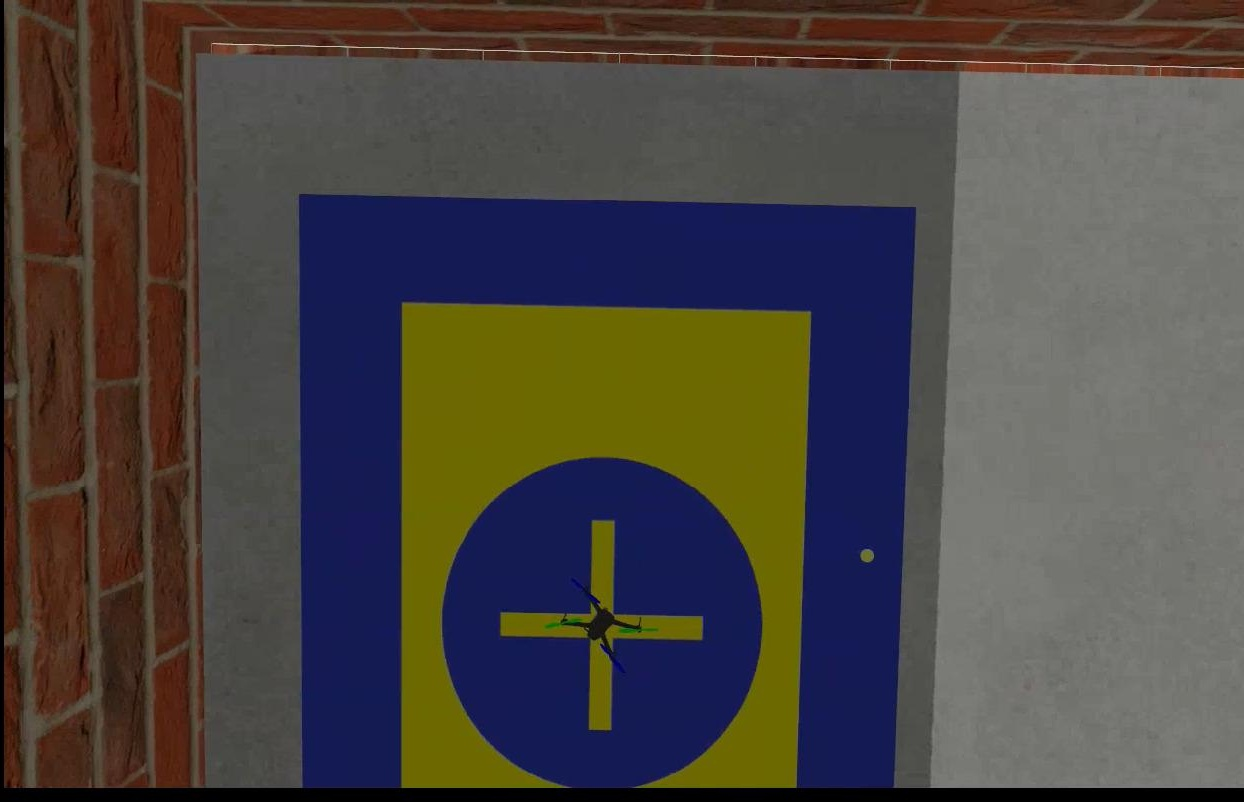large_base: (297, 198, 913, 792)
